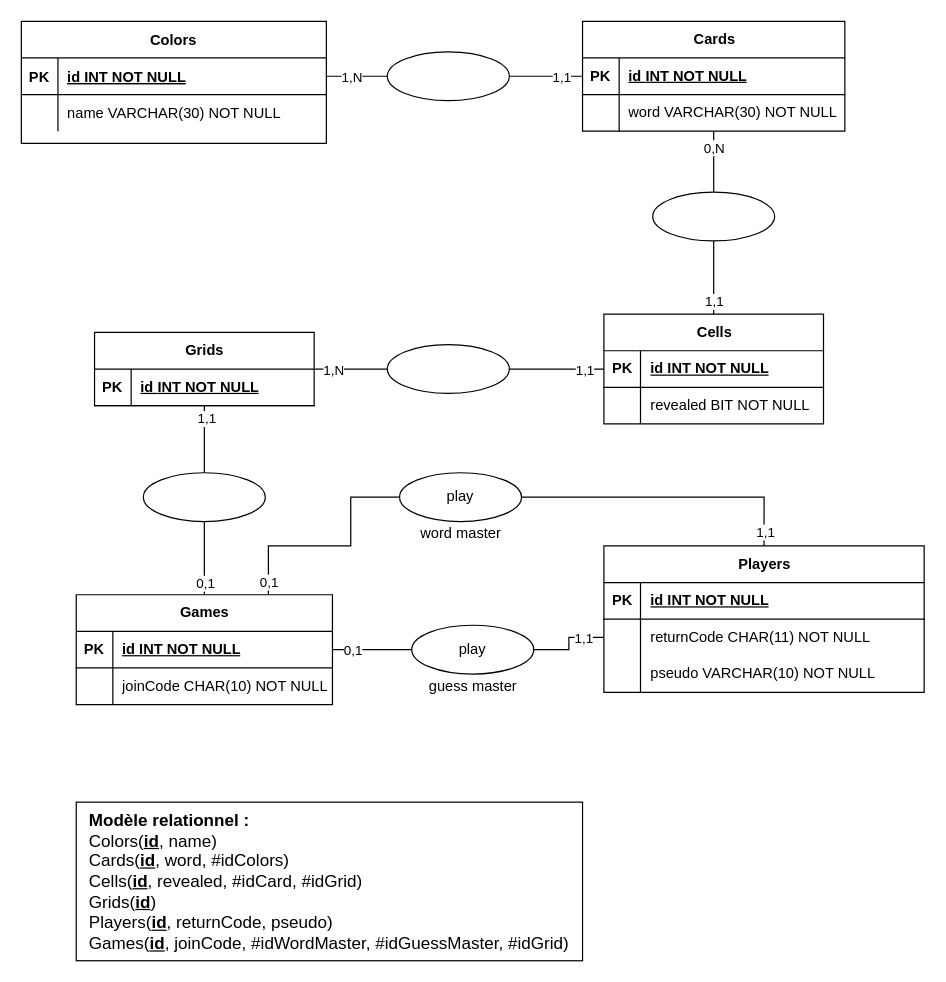
The diagram is 946 pixels wide and 982 high, and some of its shapes have lost their labels. The centre of each missing label's shape, as x and y in pixels:
Attribute: point 203,497
contain: point 447,368
paint: point 447,76
place: point 713,216
